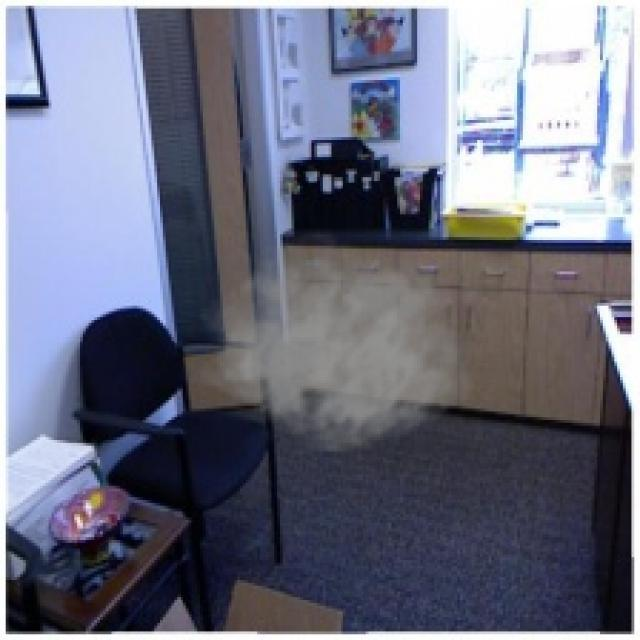Smoke: (192, 228, 474, 454)
